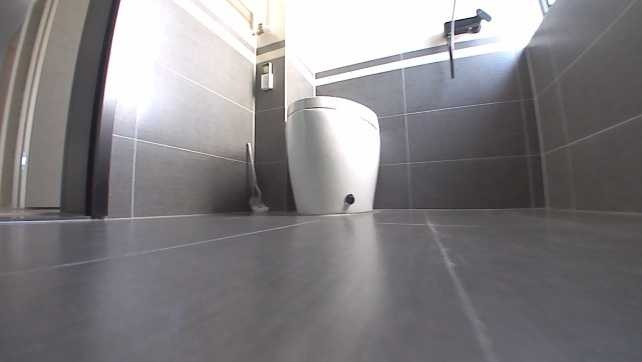toilet: (283, 95, 384, 214)
